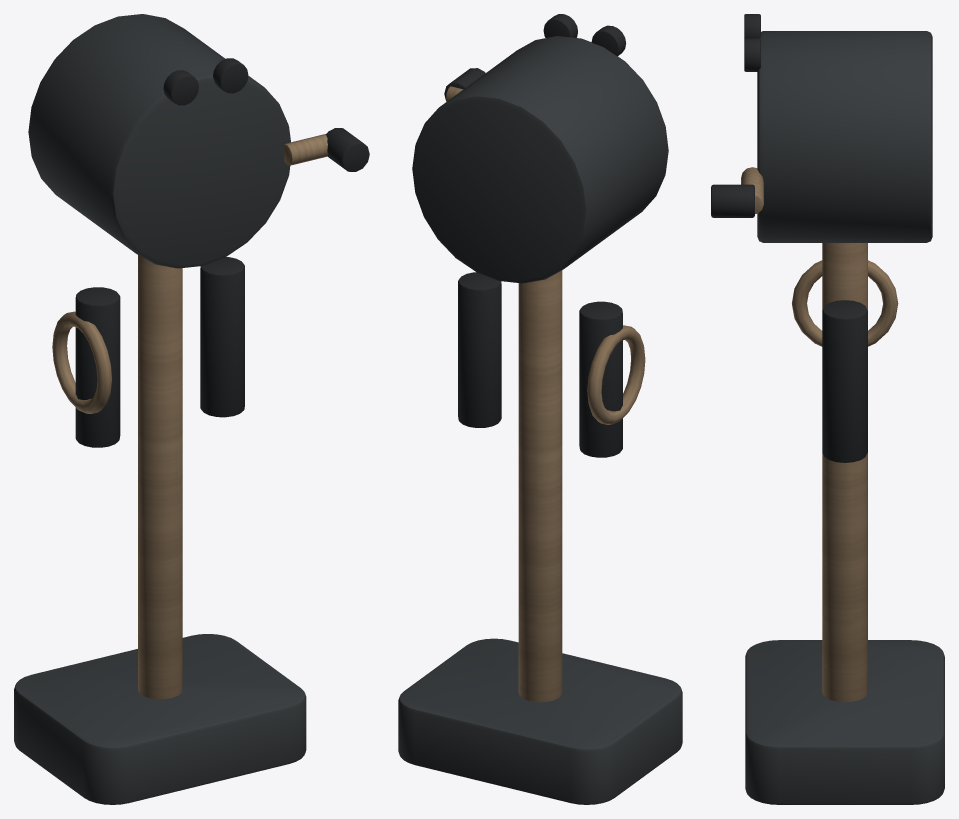
Rendered from ball_washer_premium.glb.
The picture shows the model from 3 angles, left to right: view 1: azimuth 30°, elevation 25°; view 2: azimuth 150°, elevation 25°; view 3: azimuth 270°, elevation 25°; orthographic projection. The views are drawn at different scales.
Parts seen in each view (by area): view 1: BallWasher_Drum, BallWasher_Base, BallWasher_Post, BallWasher_ClubBrush_1, BallWasher_ClubBrush_-1, BallWasher_TowelRing, BallWasher_CrankGrip, BallWasher_CrankShaft, BallWasher_Port_1, BallWasher_Port_2; view 2: BallWasher_Drum, BallWasher_Base, BallWasher_Post, BallWasher_ClubBrush_1, BallWasher_ClubBrush_-1, BallWasher_TowelRing, BallWasher_Port_1, BallWasher_Port_2; view 3: BallWasher_Drum, BallWasher_Base, BallWasher_Post, BallWasher_ClubBrush_1, BallWasher_TowelRing, BallWasher_CrankGrip, BallWasher_CrankShaft, BallWasher_Port_2.
Part boxes in pixels (x1,y1,x2,y2): BallWasher_Drum: (28,14,290,268); BallWasher_Base: (14,634,306,804); BallWasher_Post: (138,255,182,699); BallWasher_ClubBrush_1: (200,257,244,417); BallWasher_ClubBrush_-1: (75,287,120,447); BallWasher_TowelRing: (52,311,111,413); BallWasher_CrankGrip: (326,128,369,171); BallWasher_CrankShaft: (284,133,327,165); BallWasher_Port_1: (163,70,198,105); BallWasher_Port_2: (213,58,248,93); BallWasher_Drum: (412,36,668,283); BallWasher_Base: (398,638,682,804); BallWasher_Post: (518,270,562,702); BallWasher_ClubBrush_1: (458,272,501,427); BallWasher_ClubBrush_-1: (579,301,622,457); BallWasher_TowelRing: (587,325,645,424); BallWasher_Port_1: (591,25,626,55); BallWasher_Port_2: (543,14,577,37); BallWasher_Drum: (757,31,932,242); BallWasher_Base: (745,640,944,804); BallWasher_Post: (822,243,867,702); BallWasher_ClubBrush_1: (822,300,867,462); BallWasher_TowelRing: (792,260,898,346); BallWasher_CrankGrip: (711,184,754,217); BallWasher_CrankShaft: (741,167,763,213); BallWasher_Port_2: (744,38,760,71).
Size of what is drawn, in the model's own units: 0.39 by 1.05 by 0.3072.
3 materials, 1 textured.
